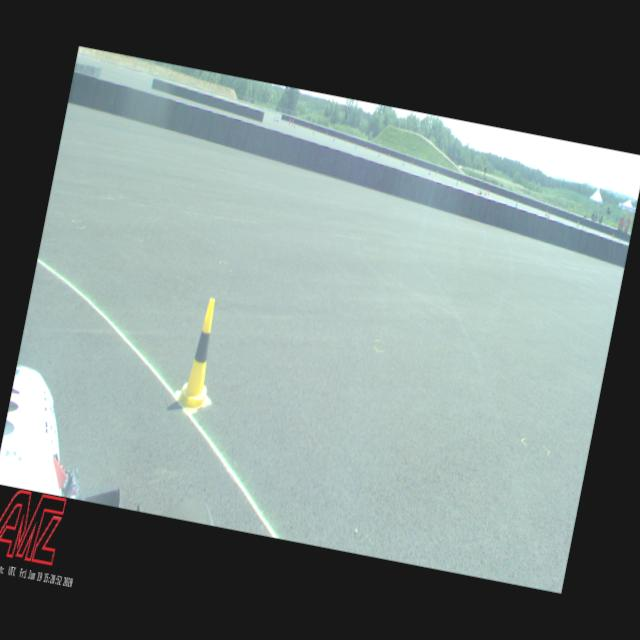yellow_cone: (174, 295, 228, 416)
